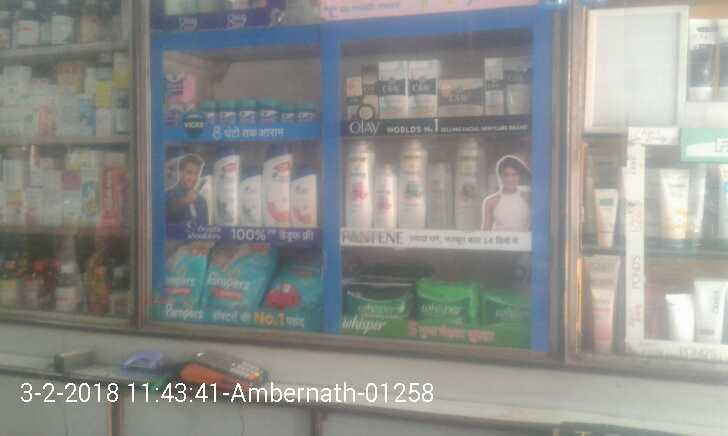beauty: (454, 136, 487, 237), (395, 135, 425, 228), (344, 137, 371, 230), (261, 142, 289, 229), (210, 143, 238, 228), (435, 73, 485, 118), (426, 153, 453, 235), (503, 55, 532, 123), (375, 63, 407, 121), (290, 163, 317, 227), (406, 63, 438, 117), (371, 161, 396, 230), (482, 50, 504, 119), (239, 165, 259, 223)
pharmacy: (198, 229, 262, 312), (149, 235, 205, 310), (192, 103, 317, 127), (409, 280, 479, 322), (265, 248, 312, 309), (343, 280, 409, 316), (484, 287, 527, 340)
